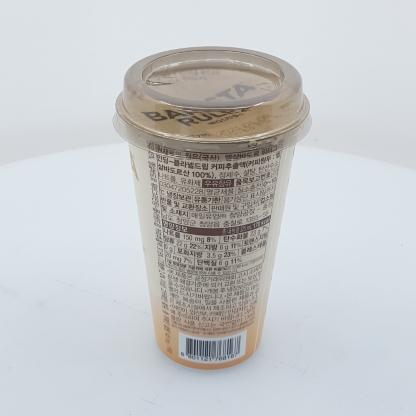------------------325ML: (112, 46, 312, 371)
